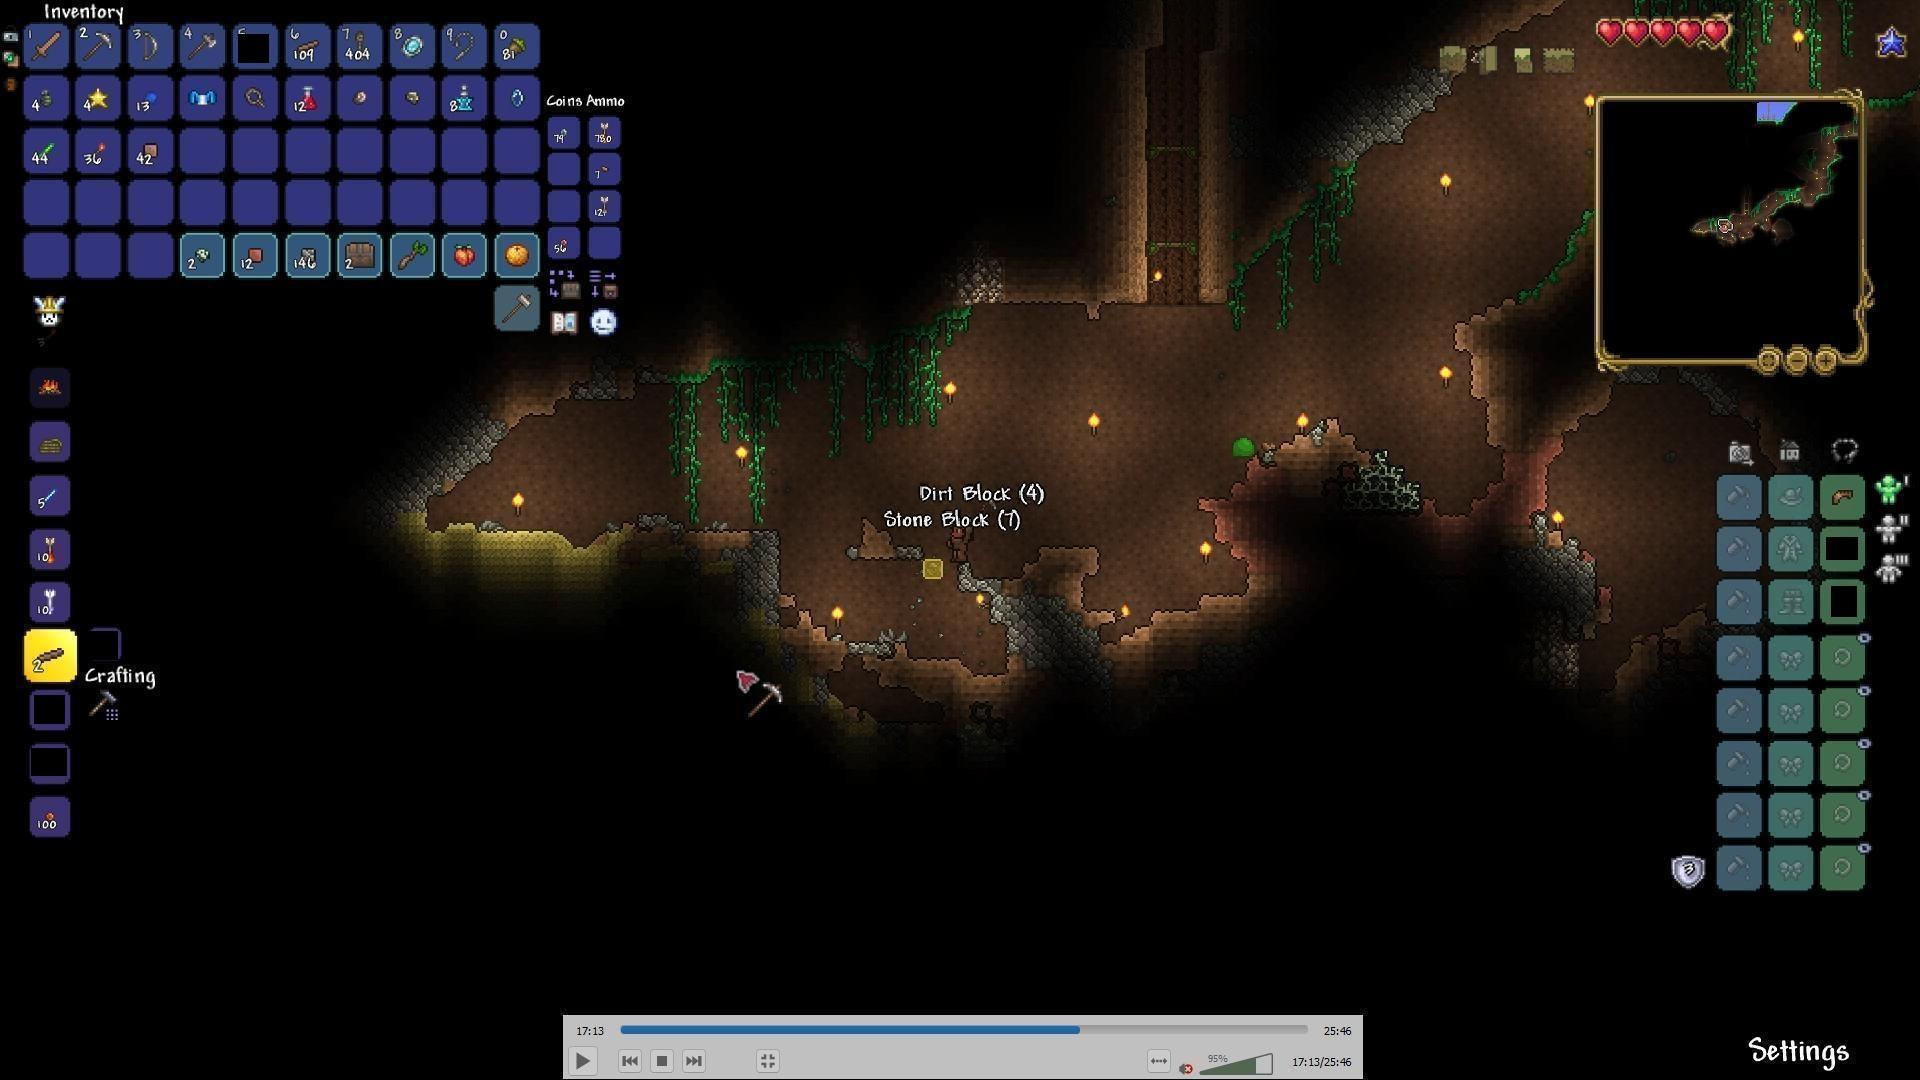helmet: (1825, 480, 1859, 512)
slime: (1226, 436, 1261, 463)
